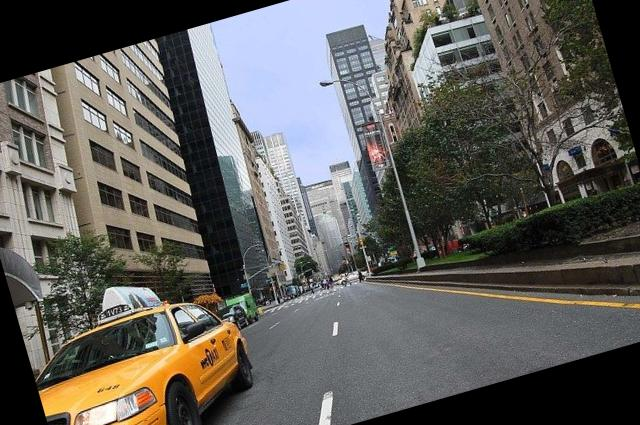taxi: (22, 302, 256, 425)
